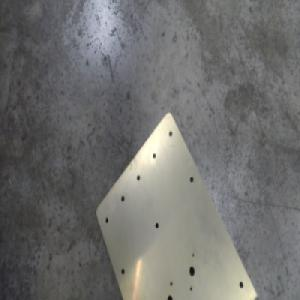MetalSheet: (94, 106, 258, 300)
